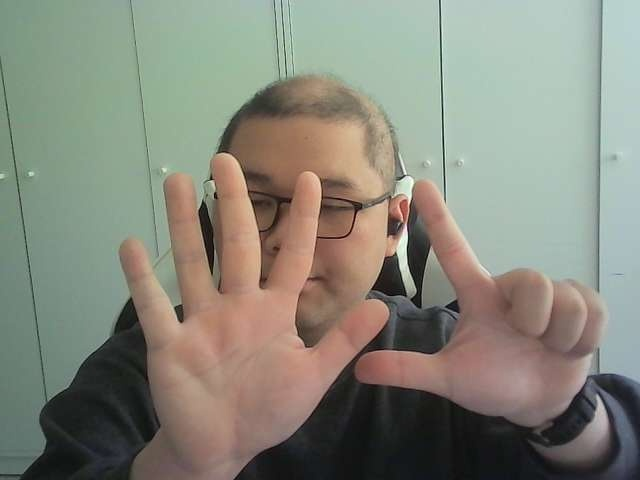Seven: (118, 152, 608, 449)
